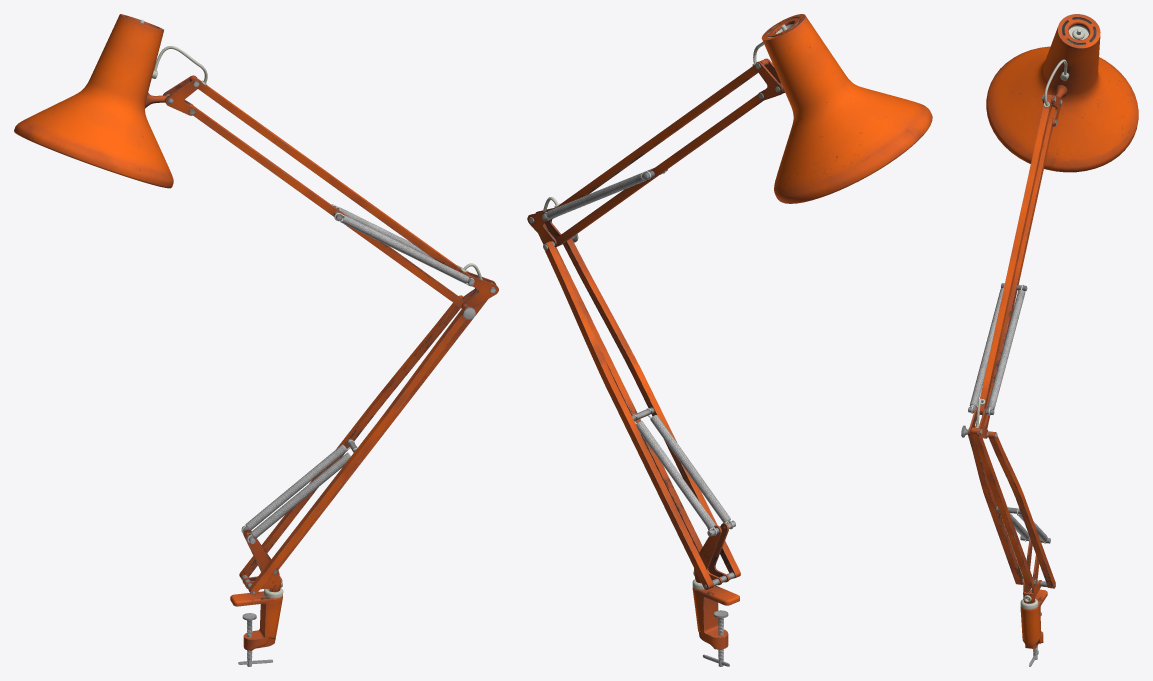
The model's file is desk_lamp.glb.
The picture shows the model from 3 angles, left to right: view 1: azimuth 30°, elevation 25°; view 2: azimuth 150°, elevation 25°; view 3: azimuth 270°, elevation 25°; orthographic projection. The views are drawn at different scales.
Visible parts, largest first — view 1: desk_lamp_arm_01; view 2: desk_lamp_arm_01; view 3: desk_lamp_arm_01.
Boxes of the visible parts, box(x1,y1,x2,y2) form: desk_lamp_arm_01: box(14, 14, 498, 666); desk_lamp_arm_01: box(527, 14, 932, 666); desk_lamp_arm_01: box(961, 14, 1138, 666).
Size of the model in its own units: 0.3024 by 0.45 by 0.1205.
2 materials, 2 textured.
